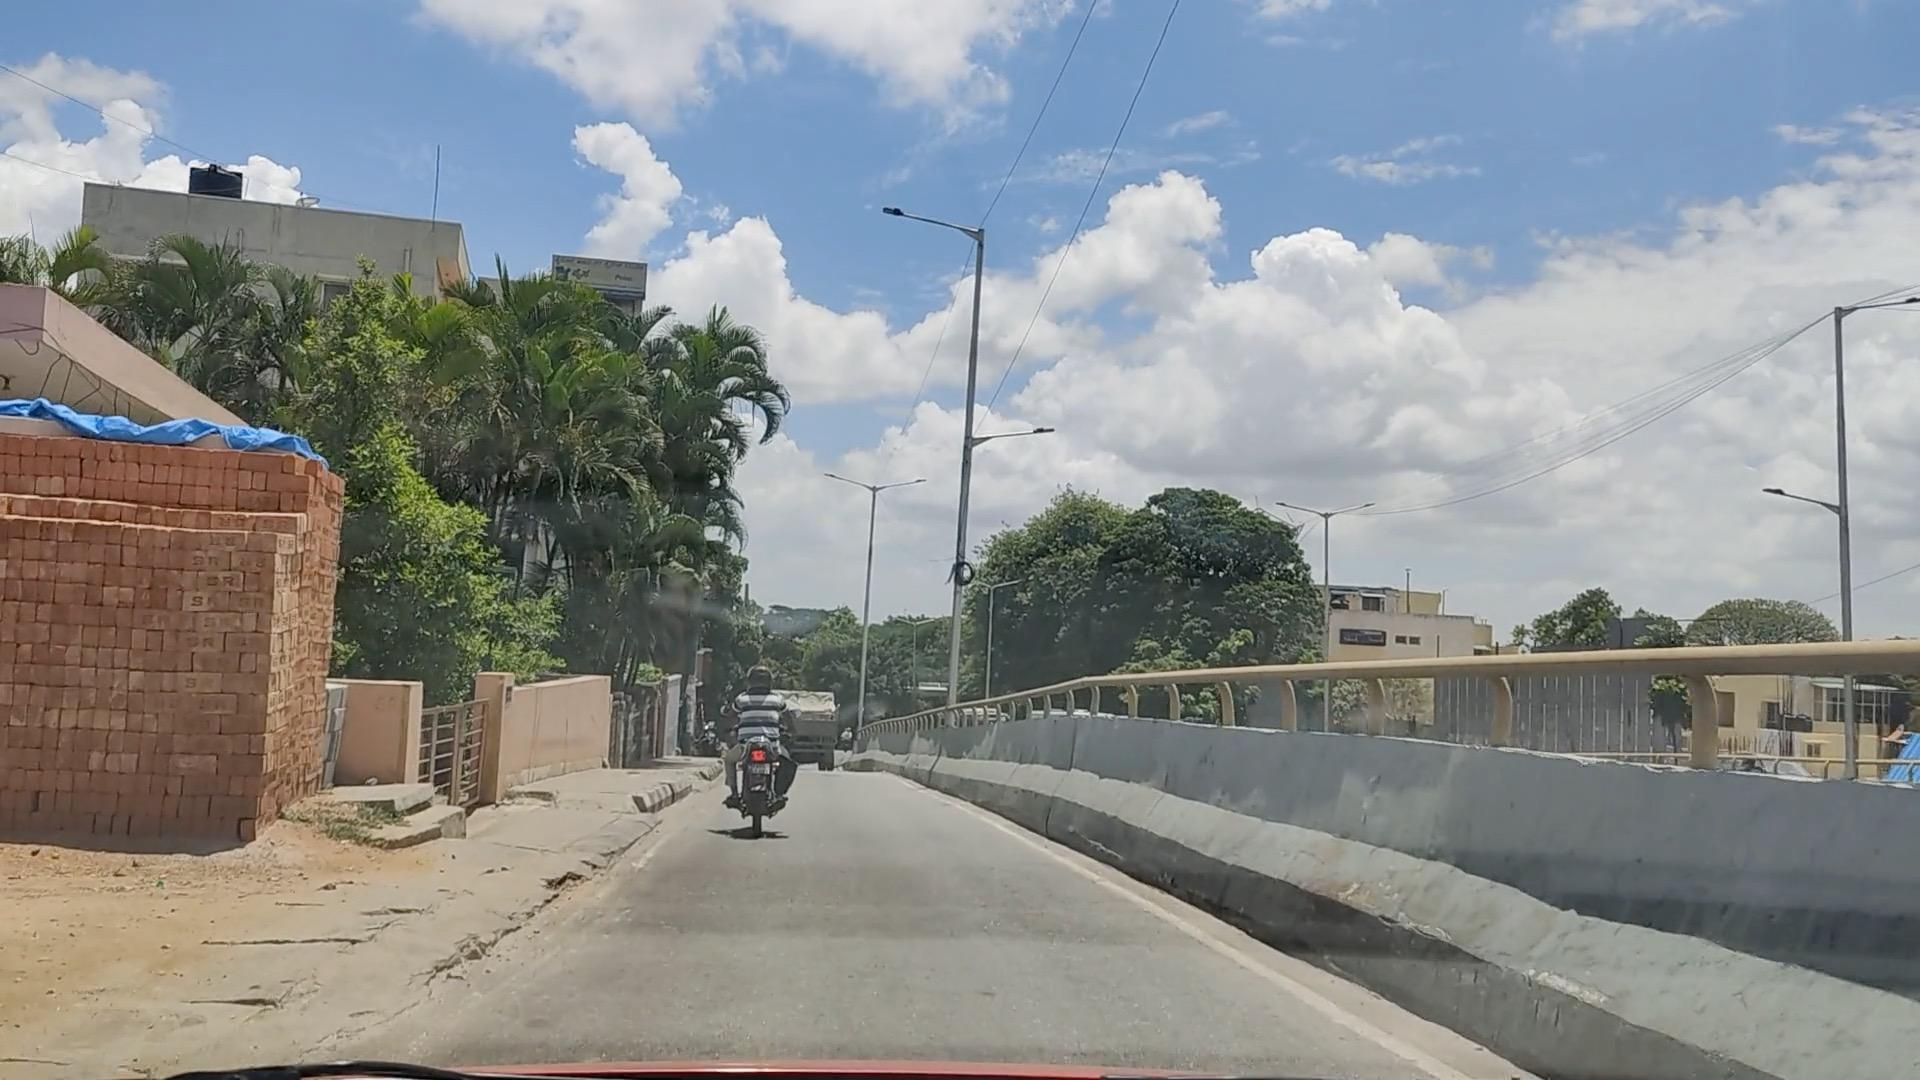LMV: (696, 663, 806, 857)
RoadDamages: (463, 853, 608, 960)
